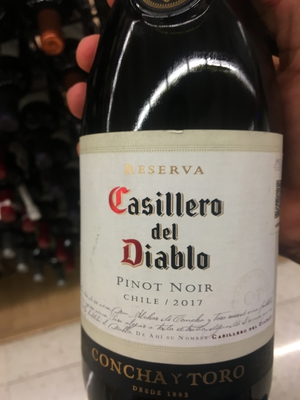casillero del diablo pinot noir: (56, 17, 291, 400)
